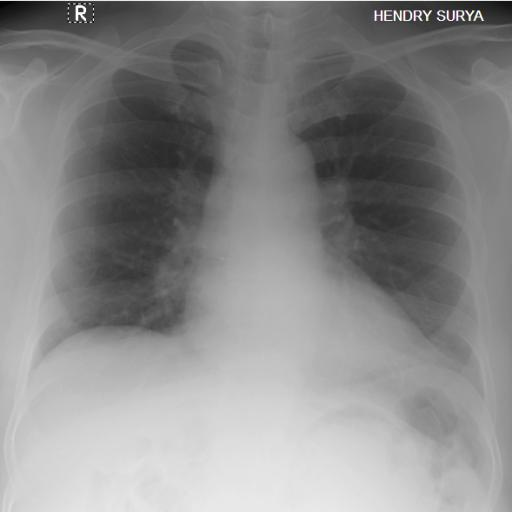kardiomegali: (8, 14, 496, 408)
